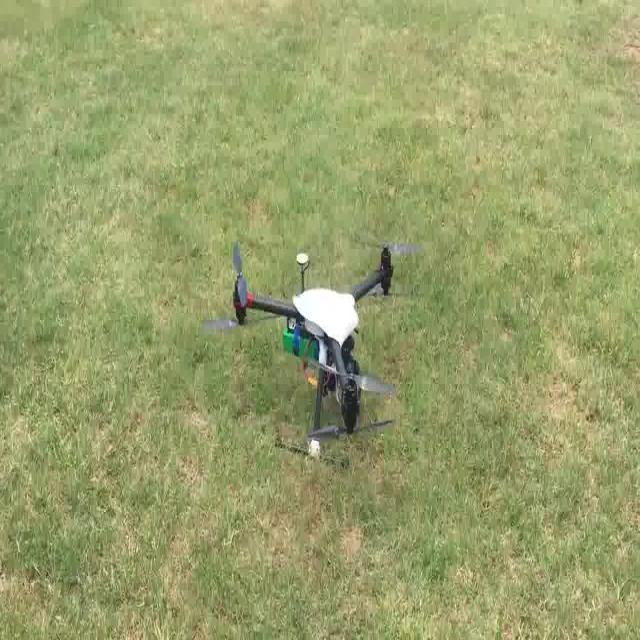drone: (200, 232, 428, 472)
